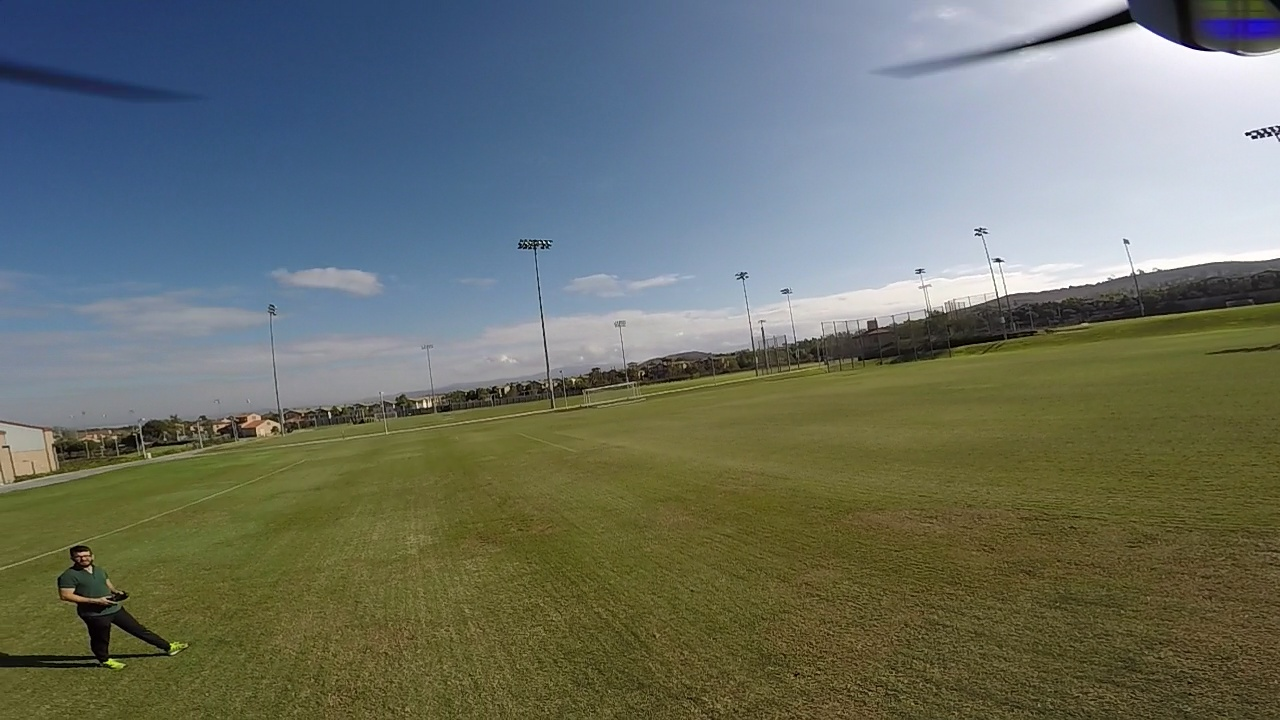person: (58, 540, 175, 670)
